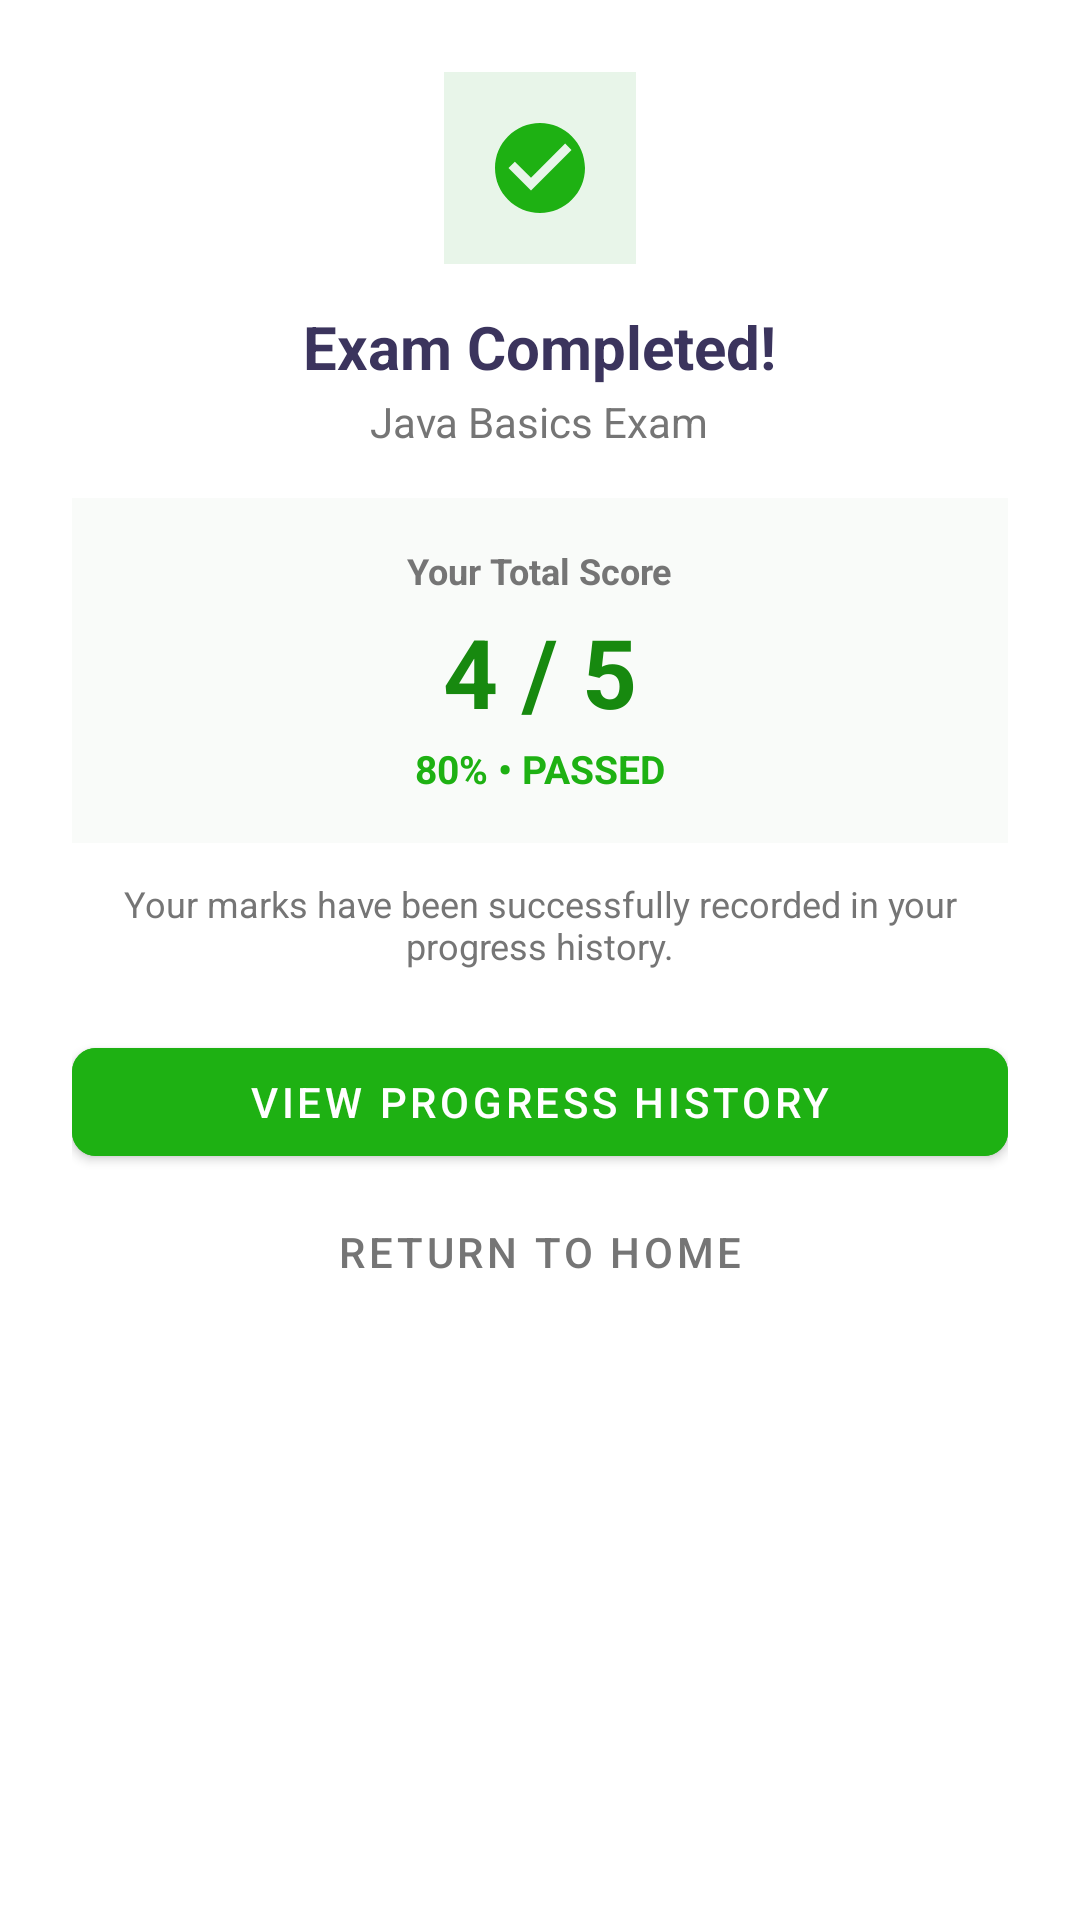

Screen size 1080 × 1920. Icon name, then its center in pixels as point (x, y):
Result: point (540, 168)
